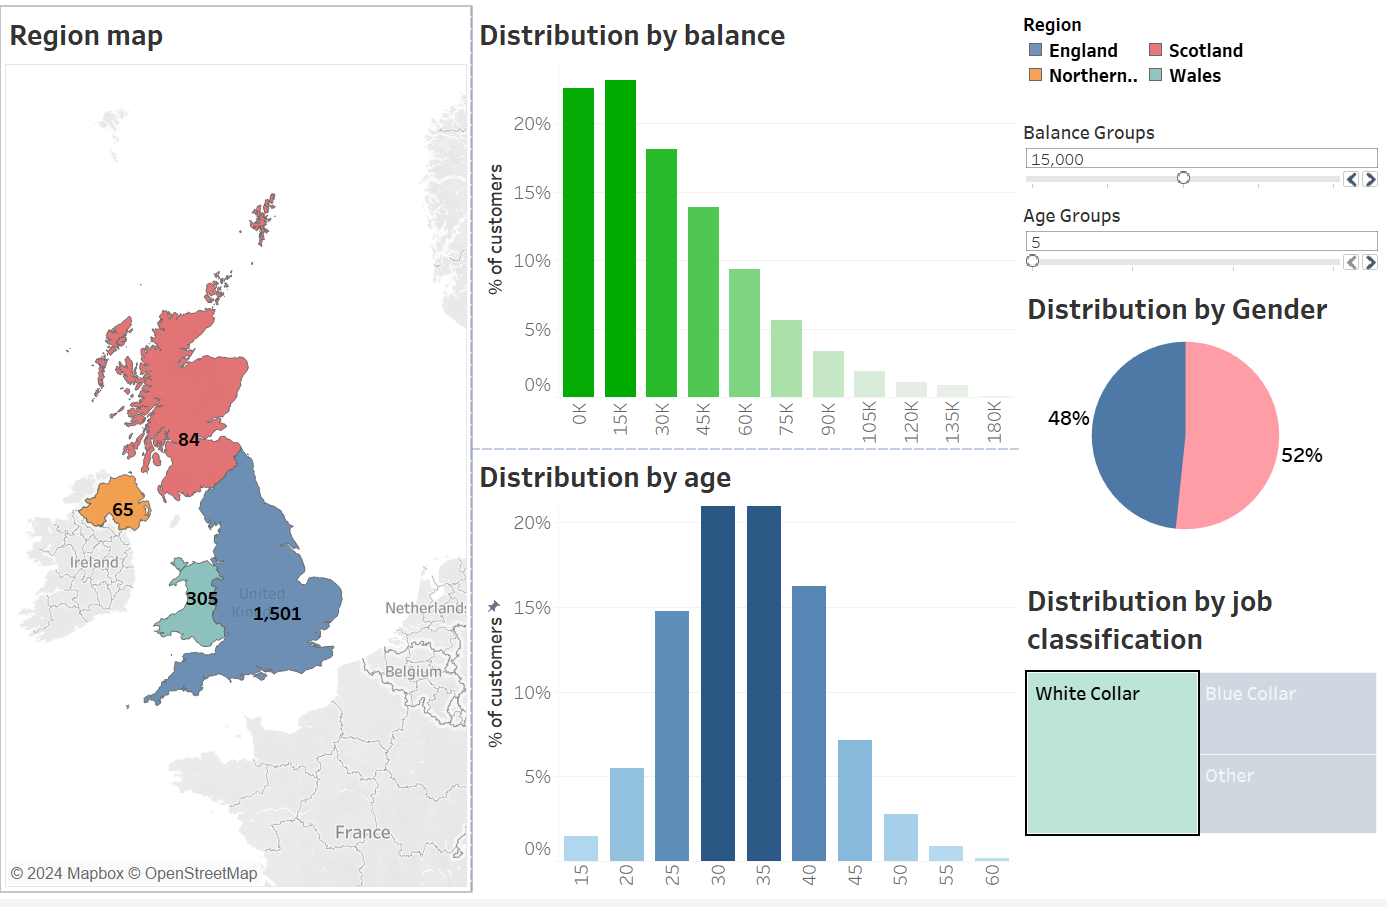

This screenshot's page, from the dashboard's own definition file:
{"tool":"tableau","page":{"name":"Dashboard 1","canvas":[1400,900],"ordinal":0},"visuals":[{"type":"worksheet","title":"Region map","mark":"Multipolygon","box":[8,8,469.6,884]},{"type":"worksheet","title":"Distribution by balance","mark":"Automatic","rows":["P1-UK-Bank-Customers.csv_E48DA58CC8874DB8867B8EBE716006A7"],"cols":["Balance (bin)"],"box":[477.6,8,548.4,442]},{"type":"legend","title":"Region map","param":"[federated.07lsjd00exx2dk12hixe80dmabqi].[none:Region:nk]","box":[1026,8,366,108]},{"type":"parameter","param":"[Parameters].[Parameter 1]","box":[1026,116,366,83]},{"type":"parameter","param":"[Parameters].[Parameter 2]","box":[1026,199,366,83]},{"type":"worksheet","title":"Distribution by Gender","mark":"Pie","box":[1026,282,366,292]},{"type":"worksheet","title":"Distribution by age","mark":"Automatic","rows":["P1-UK-Bank-Customers.csv_E48DA58CC8874DB8867B8EBE716006A7"],"cols":["Age (bin)"],"box":[477.6,450,548.4,442]},{"type":"worksheet","title":"Distribution by job classification","mark":"Automatic","box":[1026,574,366,318]}]}

Visuals, with their boxes in screenshot pixels (x1, y1, x2, y2), scaled from the page's 1400x900 canvas onto the 1387x907 screenshot:
"Region map" worksheet (Multipolygon marks): locate(8, 8, 473, 899)
"Distribution by balance" worksheet: locate(473, 8, 1016, 454)
"Region map" legend: locate(1016, 8, 1379, 117)
parameter: locate(1016, 117, 1379, 201)
parameter: locate(1016, 201, 1379, 284)
"Distribution by Gender" worksheet (Pie marks): locate(1016, 284, 1379, 578)
"Distribution by age" worksheet: locate(473, 454, 1016, 899)
"Distribution by job classification" worksheet: locate(1016, 578, 1379, 899)
